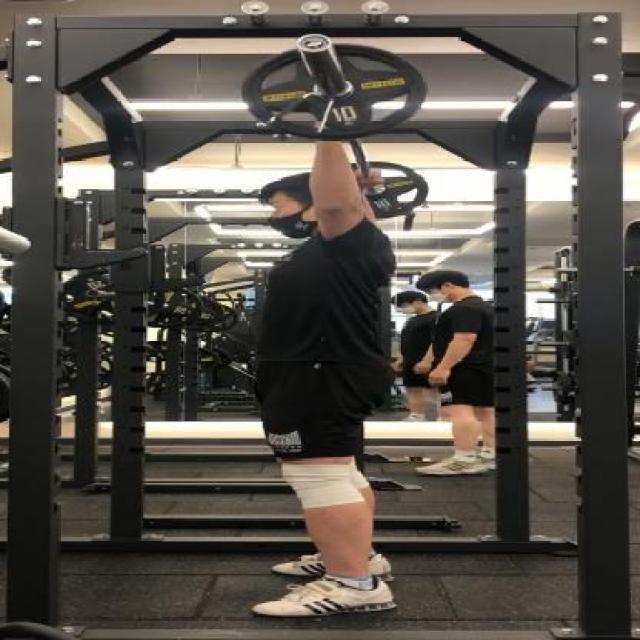Barbell: (291, 31, 337, 54)
